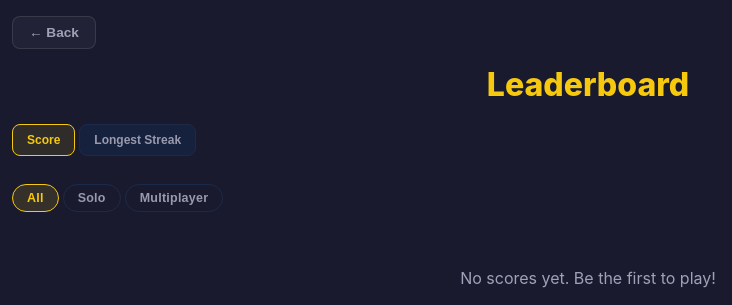
Test case: LeaderboardPage › shows error message when streak fetch fails
Click the tab "Longest Streak" at (138, 140), box [79,124,196,156]
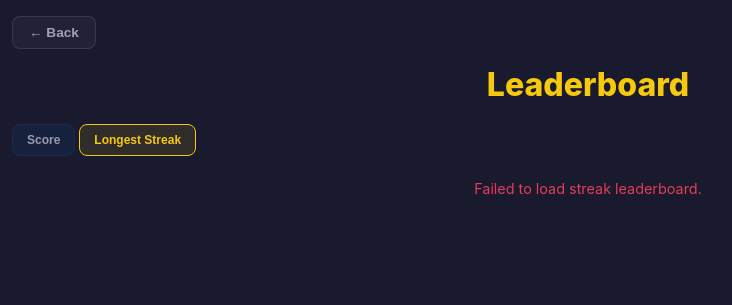
expect the text "Failed to load streak leaderboard." is shown: met, box [474,180,702,197]
